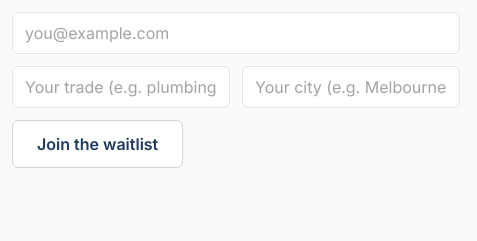
Scenario: WaitlistForm › shows a server error message on a non-ok response
The width and height of the screenshot is (477, 241).
Type "mel@example.com" into the field named "email".
click(236, 33); type("mel@example.com")  # box [12,12,460,54]
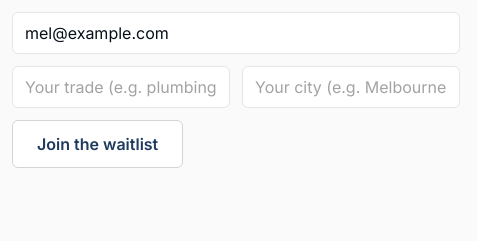
Type "plumbing" into the field labelled "Your trade (e.g. plumbing)".
click(121, 87); type("plumbing")  # box [12,66,230,108]
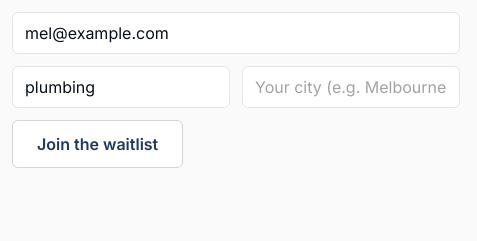
Type "Melbourne" into the field named "your region".
click(351, 87); type("Melbourne")  # box [242,66,460,108]
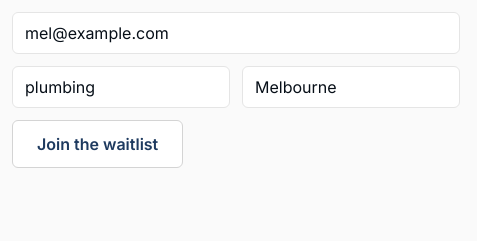
Click the button "Join the waitlist".
click(98, 144)  # box [12,120,183,168]
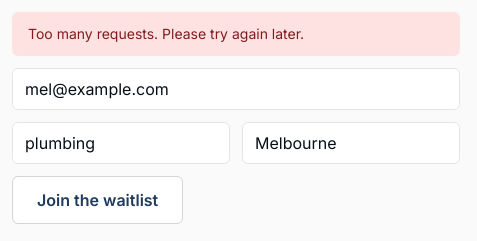
Now the message shows "Too many requests", box [28,25,304,42]
